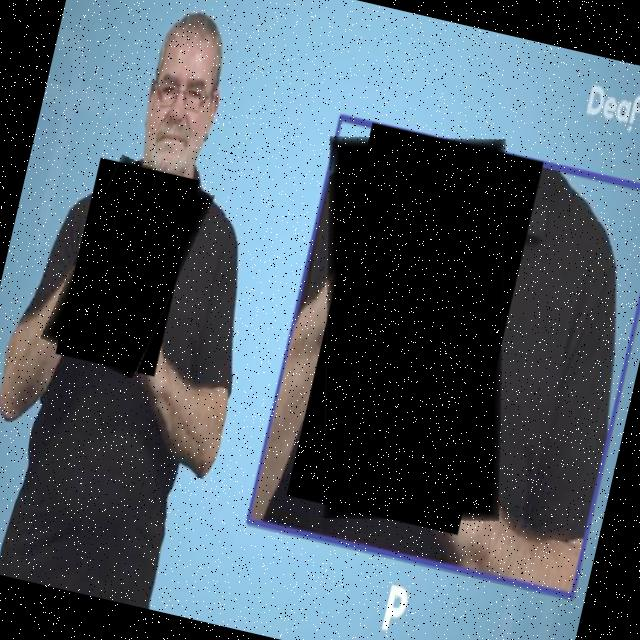P: (267, 113, 564, 547), (46, 152, 210, 383)
